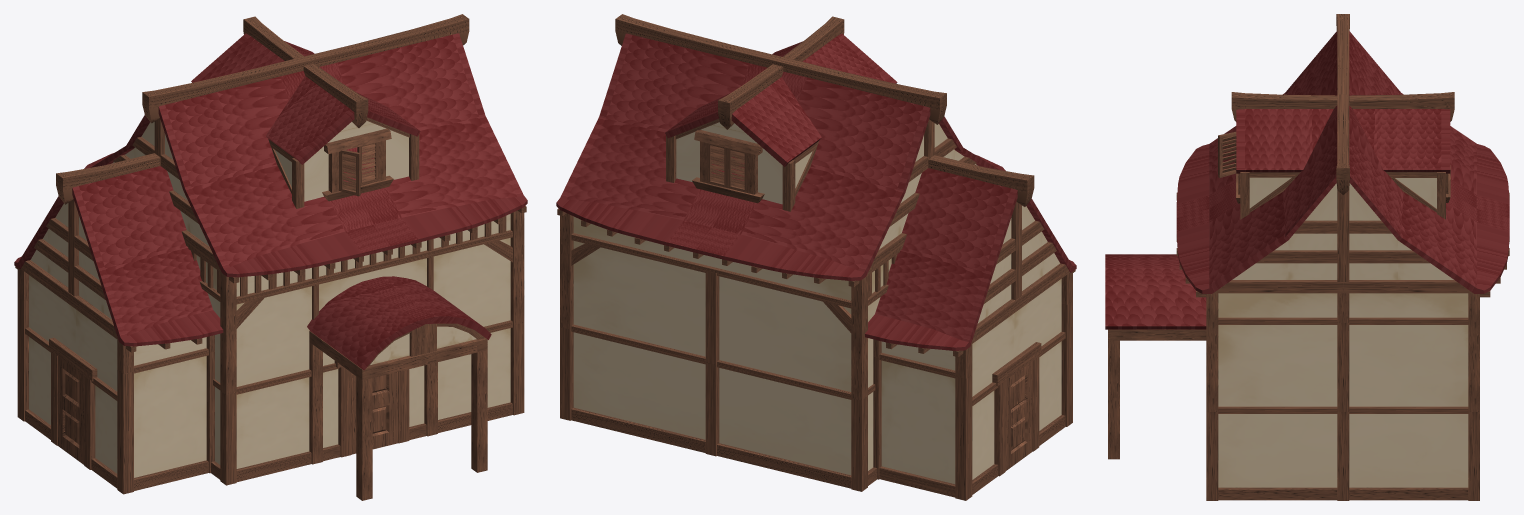
The model's file is House4_FBX.fbx.
The picture shows the model from 3 angles, left to right: view 1: azimuth 30°, elevation 25°; view 2: azimuth 150°, elevation 25°; view 3: azimuth 270°, elevation 25°; orthographic projection. The views are drawn at different scales.
Visible parts, largest first — view 1: House4; view 2: House4; view 3: House4.
Part boxes in pixels (x1,y1,x2,y2): House4: [14, 14, 527, 500]; House4: [556, 14, 1076, 500]; House4: [1105, 14, 1509, 500].
Size of the model in its own units: 1414 by 1140 by 1236.
